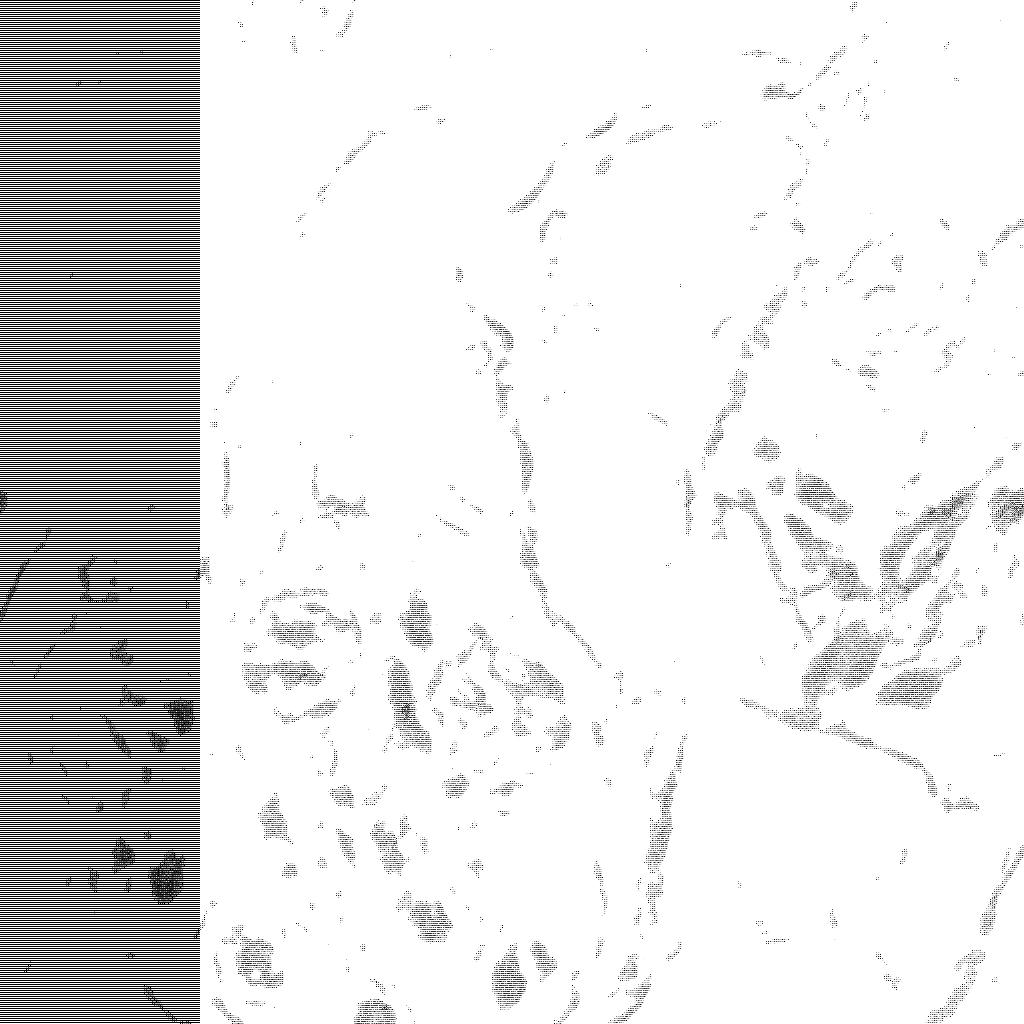axone: (784, 621, 894, 714), (379, 653, 436, 760), (873, 656, 963, 716), (790, 462, 857, 532), (481, 939, 535, 1015), (985, 477, 1024, 539)
